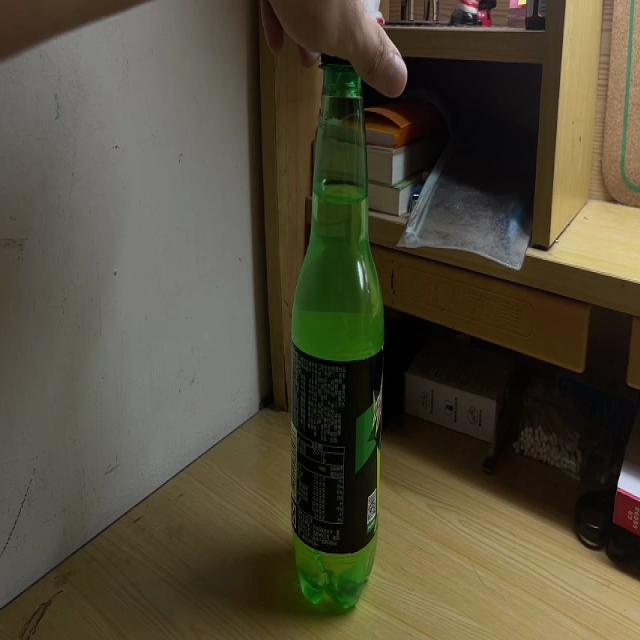Mountain-Dew: (287, 21, 383, 612)
